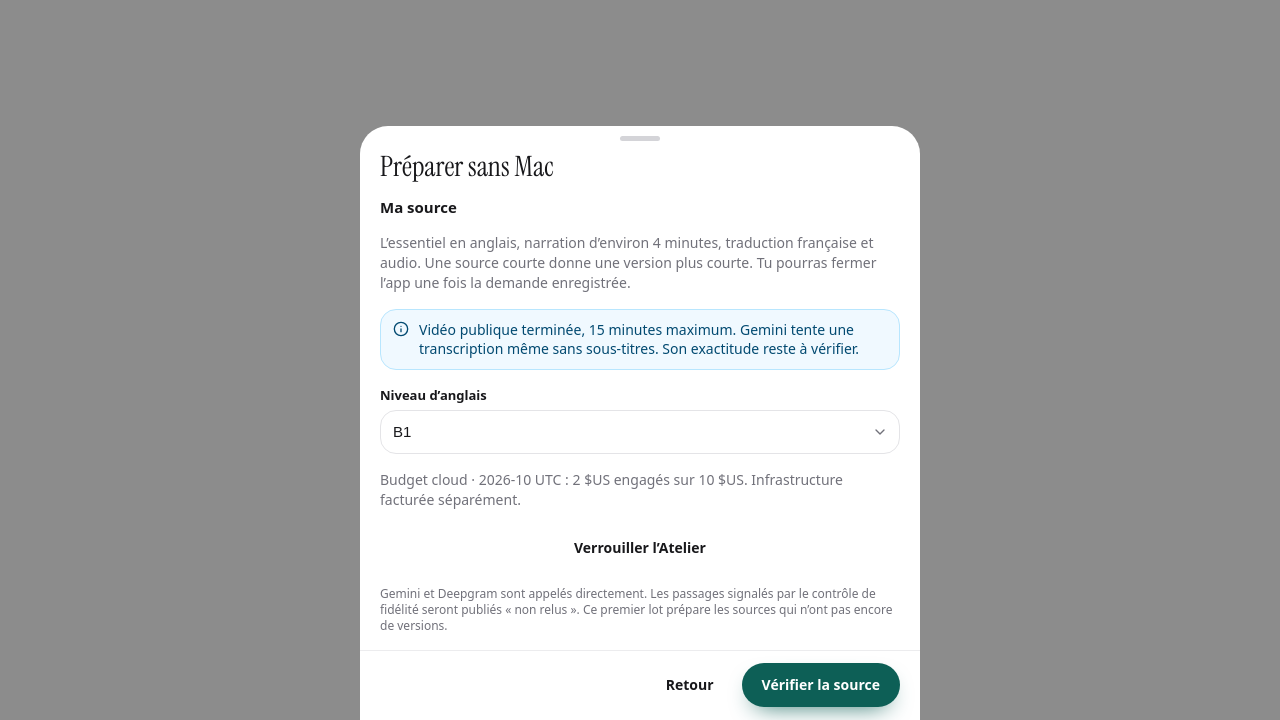
Test case: changer de niveau invalide le devis et l’accord précédent
The image size is (1280, 720).
Click the button "Vérifier la source".
click(821, 684)  # box [742,662,900,706]
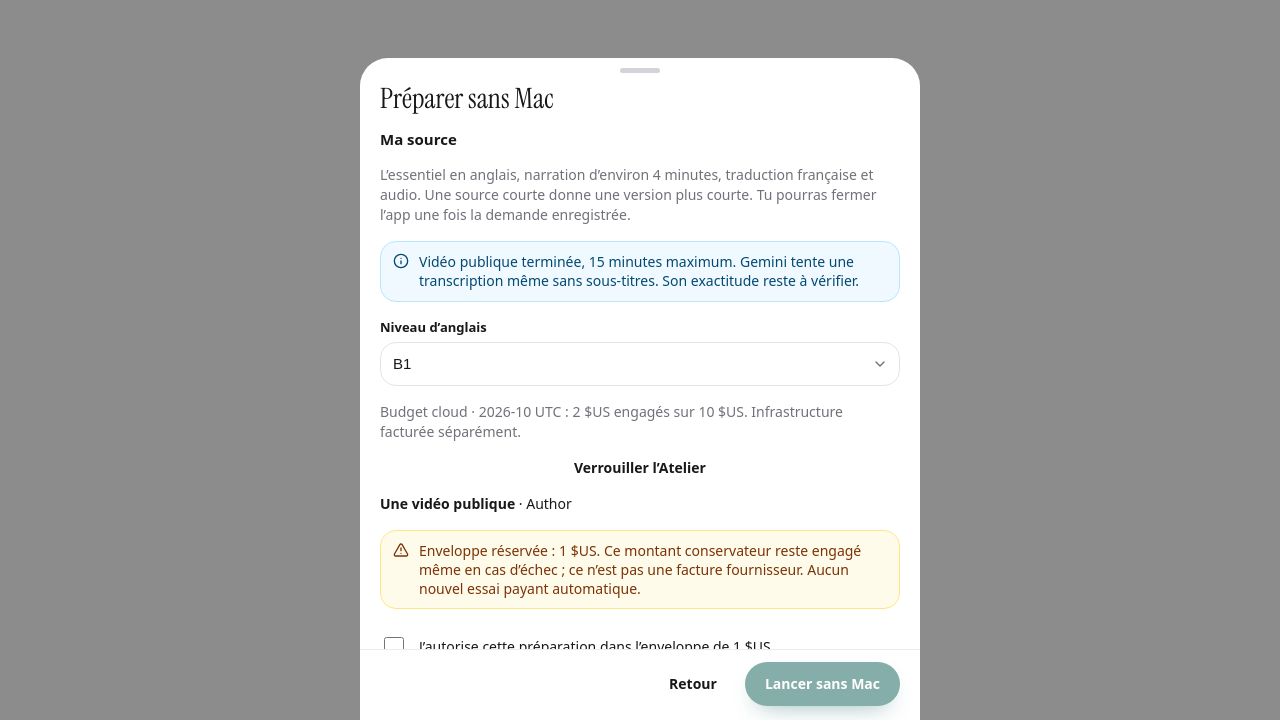
Expected: the button "Lancer sans Mac" is shown, [745,662,900,706]
Click the checkbox labelled "J’autorise cette préparation dans l’enveloppe de 1 $US.".
click(394, 647)  # box [384,637,404,657]
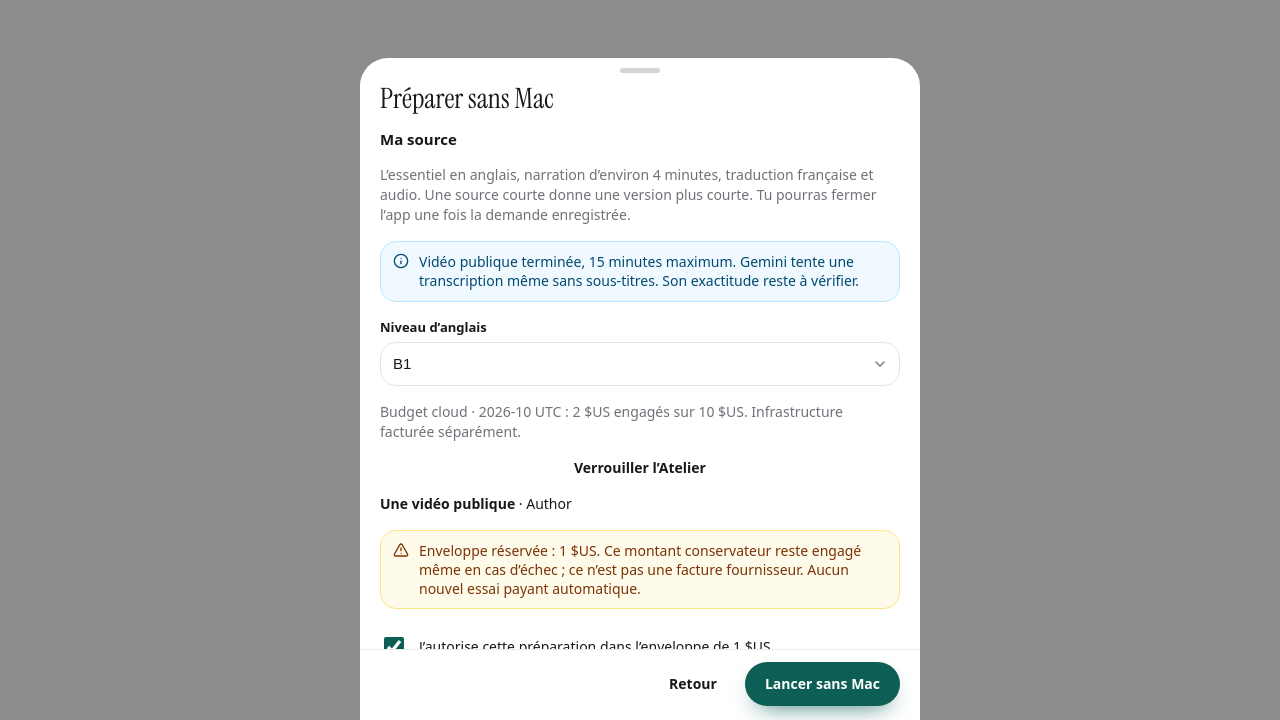
Select "A2" in the dropdown labelled "Niveau d’anglais" at (640, 363), box [380,341,900,385]
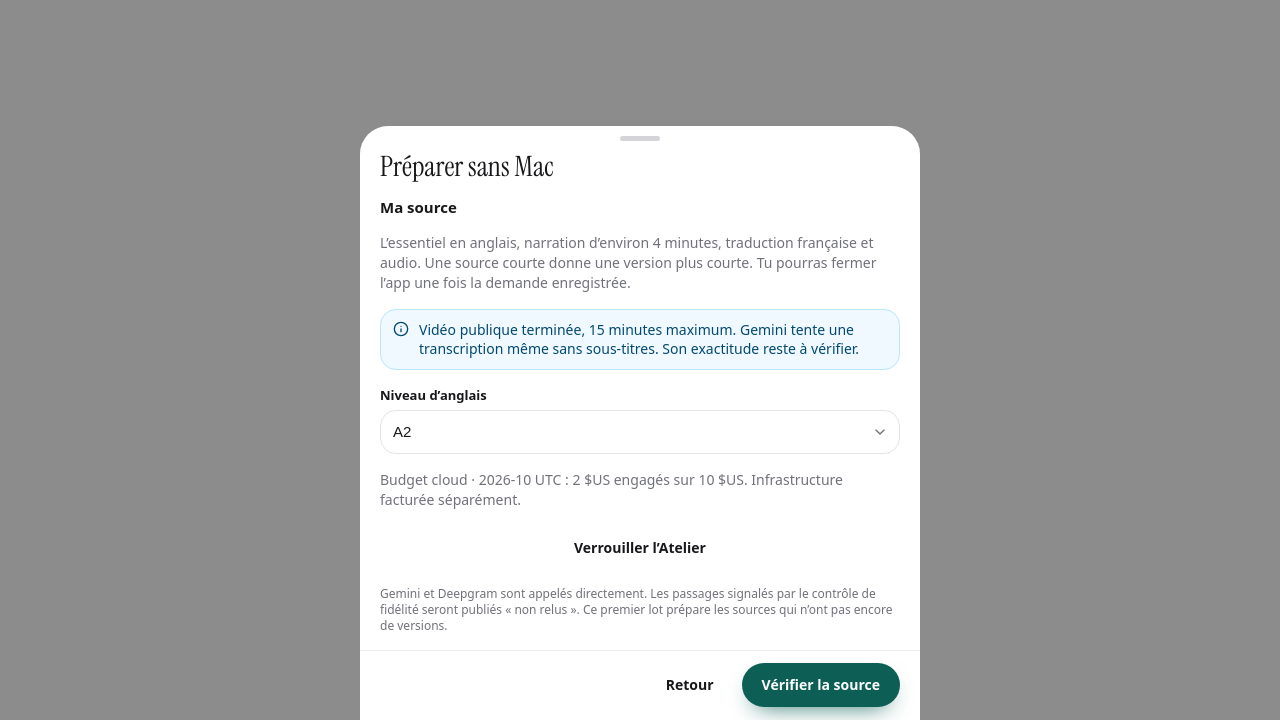
Expected: the button "Lancer sans Mac" is gone
Expected: the button "Vérifier la source" is shown, [742,662,900,706]
